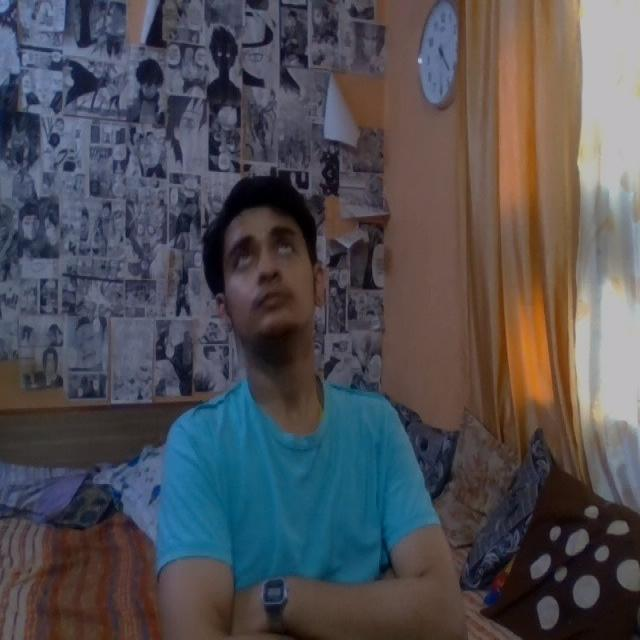idle: (132, 177, 472, 640)
